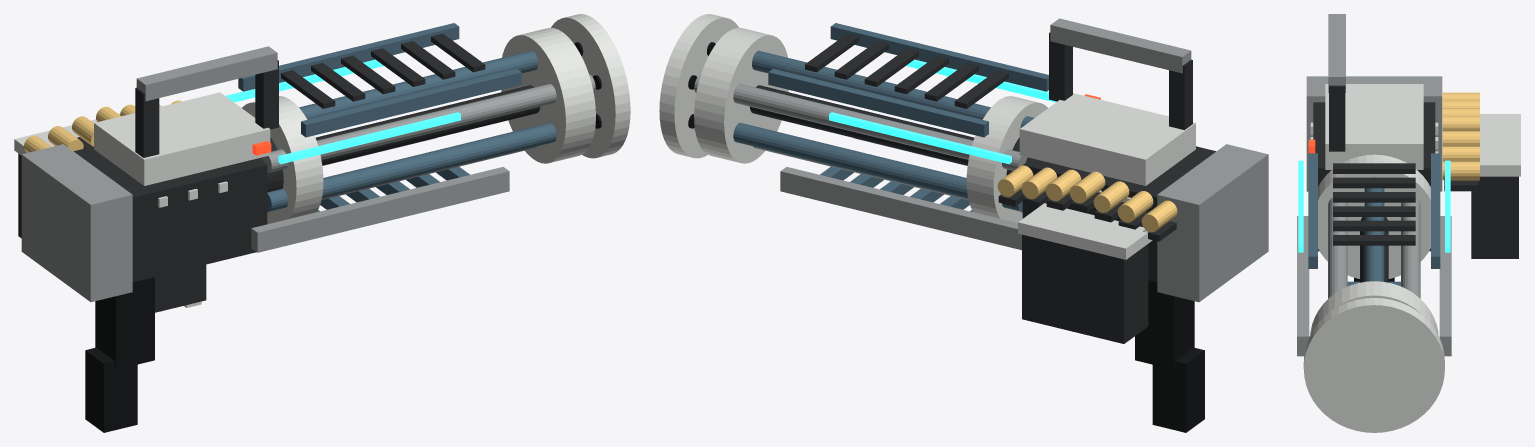
File: lg_duel_machine_gun_minigun_steel.glb
3 renders of one model, left to right at view 1: azimuth 30°, elevation 25°; view 2: azimuth 150°, elevation 25°; view 3: azimuth 270°, elevation 25°, orthographic. The views are drawn at different scales.
Parts seen in each view (by area): view 1: rear_motor_cap_round_proxy, rear_steel_receiver_block, upper_feed_cover_bright_steel, front_barrel_cluster_collar, left_side_steel_frame_rail, rotating_barrel_04_steel_tube, front_polished_muzzle_ring, rear_black_vertical_grip, rotating_barrel_03_steel_tube, rear_barrel_cluster_collar, left_upper_heatshield_rail, rear_black_vertical_grip_lower (+15 smaller); view 2: rear_motor_cap_round_proxy, left_feed_box_dark_steel, upper_feed_cover_bright_steel, front_barrel_cluster_collar, right_side_steel_frame_rail, rotating_barrel_06_steel_tube, front_polished_muzzle_ring, rear_barrel_cluster_collar, rotating_barrel_01_steel_tube, left_feed_box_bright_lid, right_upper_heatshield_rail, rear_black_vertical_grip_lower (+23 smaller); view 3: front_polished_muzzle_ring, upper_feed_cover_bright_steel, rear_barrel_cluster_collar, left_feed_box_dark_steel, left_feed_box_bright_lid, rear_motor_cap_round_proxy, front_barrel_cluster_collar, rear_steel_receiver_block, left_side_steel_frame_rail, right_side_steel_frame_rail, rotating_barrel_01_steel_tube, rotating_barrel_03_steel_tube (+22 smaller).
Boxes of the visible parts, x1,y1,x2,y2 form: rear_motor_cap_round_proxy: [21, 144, 132, 302]; rear_steel_receiver_block: [74, 146, 267, 282]; upper_feed_cover_bright_steel: [94, 92, 270, 185]; front_barrel_cluster_collar: [501, 27, 595, 163]; left_side_steel_frame_rail: [251, 167, 509, 252]; rotating_barrel_04_steel_tube: [267, 122, 595, 211]; front_polished_muzzle_ring: [551, 14, 630, 158]; rear_black_vertical_grip: [95, 277, 154, 369]; rotating_barrel_03_steel_tube: [262, 74, 595, 172]; rear_barrel_cluster_collar: [242, 96, 323, 224]; left_upper_heatshield_rail: [301, 69, 521, 137]; rear_black_vertical_grip_lower: [85, 347, 137, 432]; rear_motor_cap_round_proxy: [1157, 144, 1268, 302]; left_feed_box_dark_steel: [1022, 234, 1148, 343]; upper_feed_cover_bright_steel: [1019, 93, 1195, 185]; front_barrel_cluster_collar: [694, 27, 788, 163]; right_side_steel_frame_rail: [780, 167, 1021, 250]; rotating_barrel_06_steel_tube: [694, 122, 1022, 211]; front_polished_muzzle_ring: [659, 14, 738, 158]; rear_barrel_cluster_collar: [966, 96, 1047, 222]; rotating_barrel_01_steel_tube: [694, 74, 1027, 170]; left_feed_box_bright_lid: [1018, 203, 1152, 259]; right_upper_heatshield_rail: [768, 68, 988, 137]; rear_black_vertical_grip_lower: [1152, 347, 1204, 432]; front_polished_muzzle_ring: [1303, 298, 1444, 432]; upper_feed_cover_bright_steel: [1325, 84, 1423, 169]; rear_barrel_cluster_collar: [1318, 154, 1430, 278]; left_feed_box_dark_steel: [1471, 176, 1518, 258]; left_feed_box_bright_lid: [1480, 114, 1520, 176]; rear_motor_cap_round_proxy: [1306, 76, 1442, 191]; front_barrel_cluster_collar: [1310, 281, 1438, 334]; rear_steel_receiver_block: [1313, 102, 1435, 251]; left_side_steel_frame_rail: [1297, 216, 1309, 356]; right_side_steel_frame_rail: [1439, 216, 1451, 356]; rotating_barrel_01_steel_tube: [1401, 198, 1420, 298]; rotating_barrel_03_steel_tube: [1328, 197, 1347, 298].
Size of the model in its own units: 0.8975 by 0.56 by 0.33.
